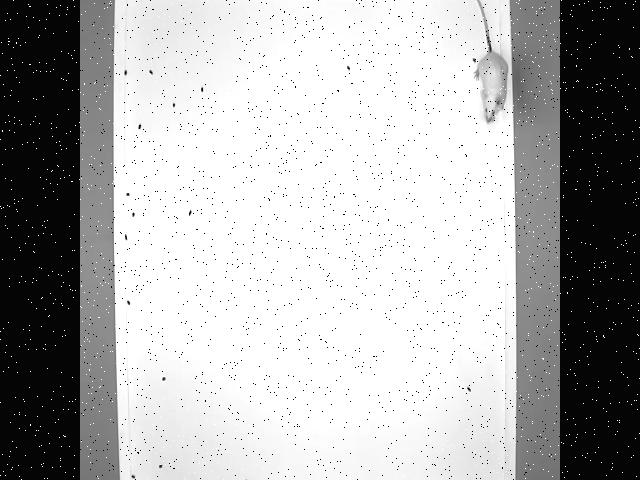Tikus: (472, 0, 508, 125)
